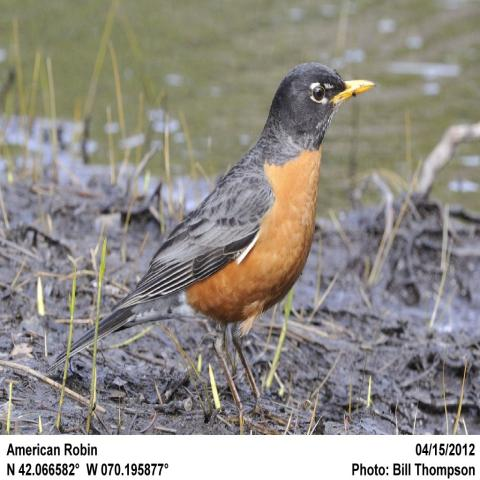bird: (47, 59, 376, 431)
